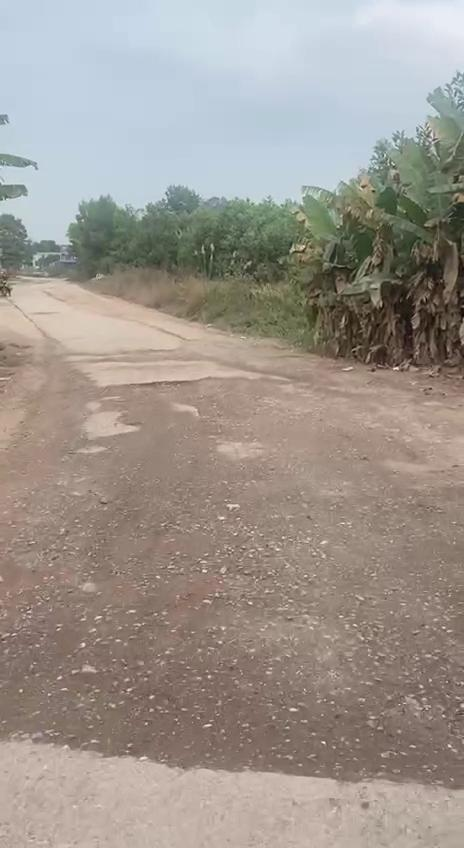pothole: (111, 374, 198, 410)
